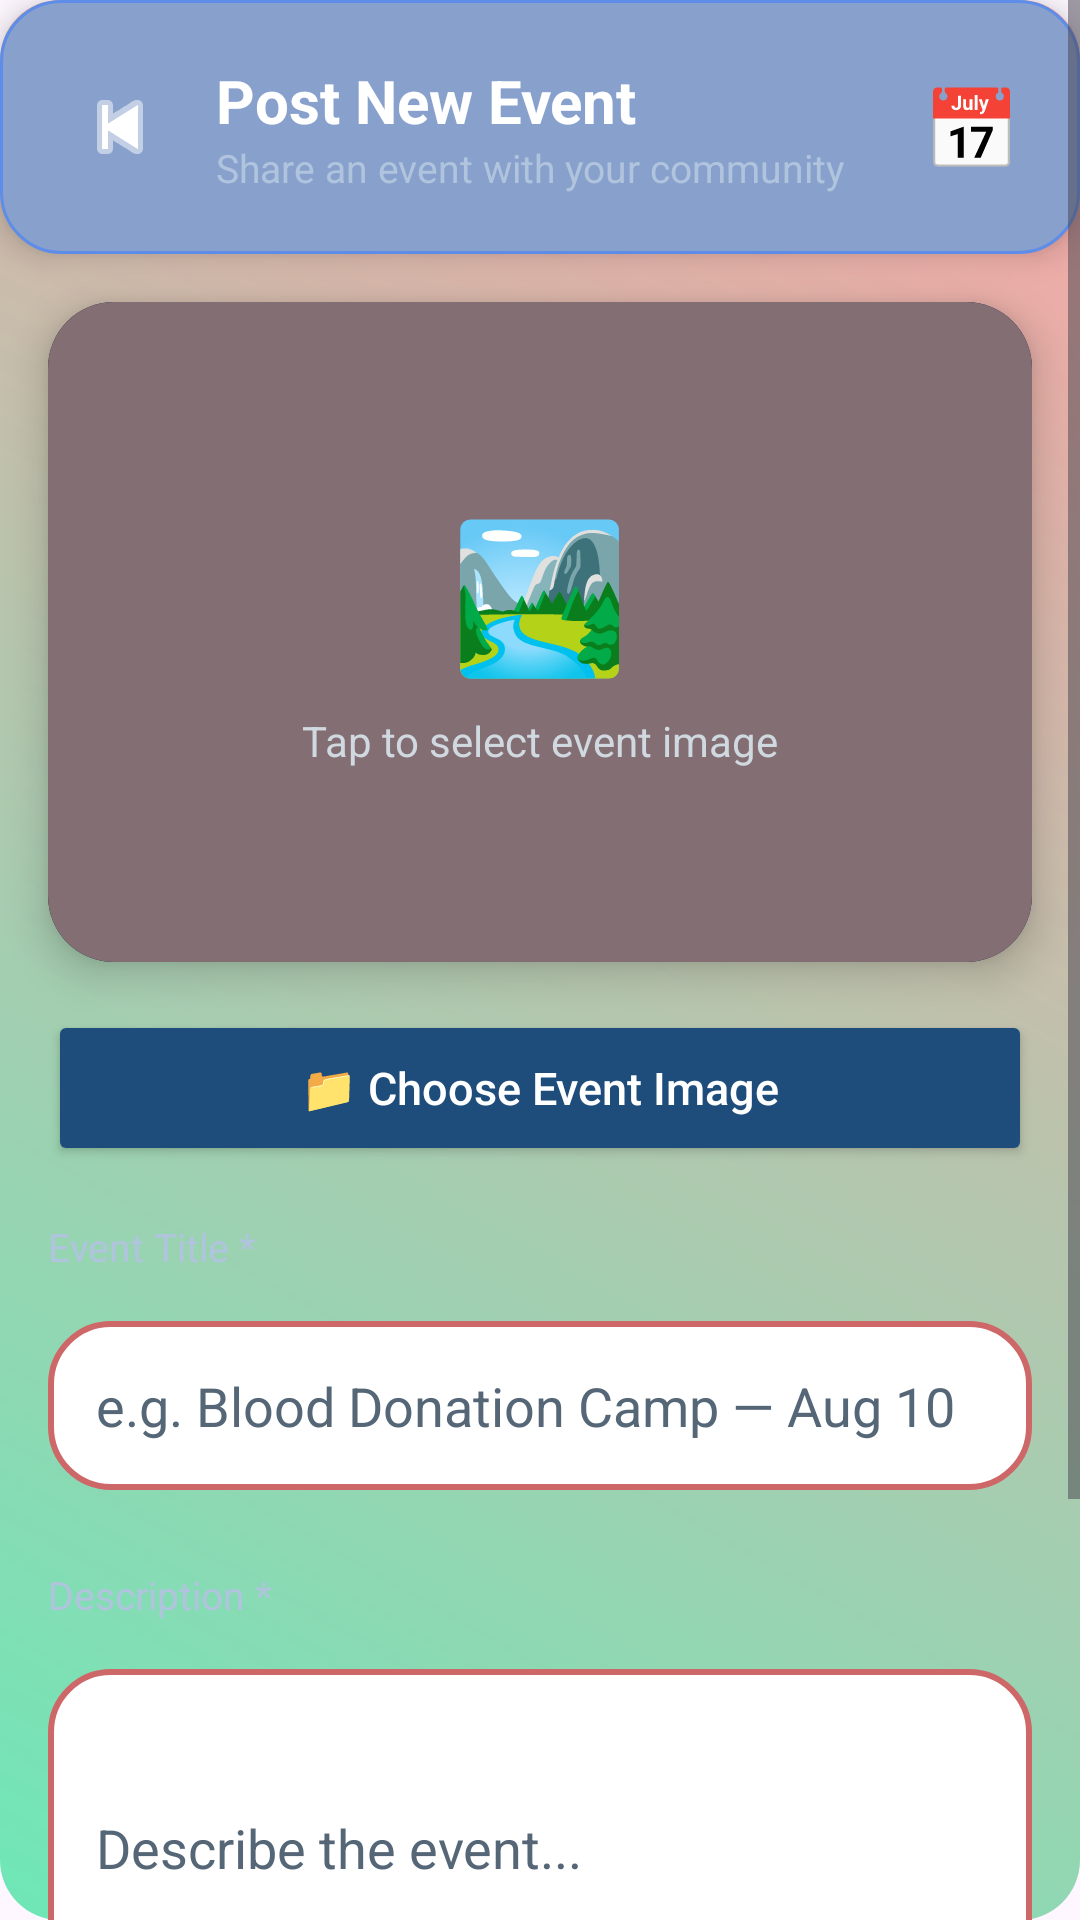

Icon click points for this 1080 x 1920 phone screenshot, format [x,y]:
previous: [120,127]
